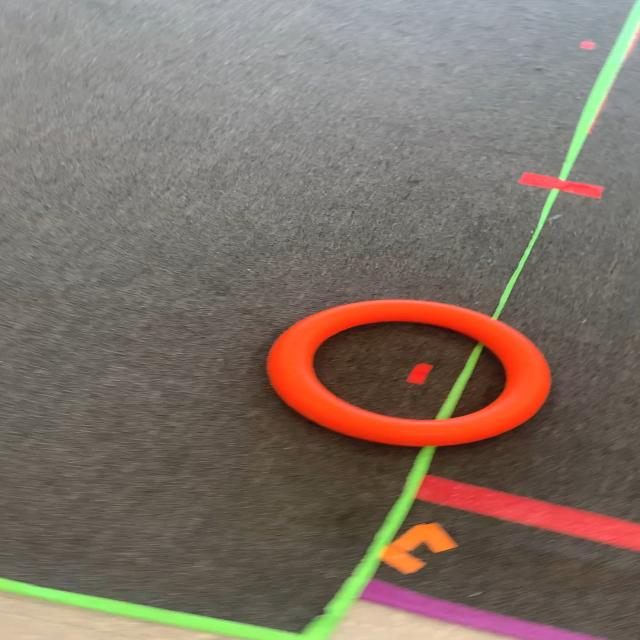notes: (261, 300, 552, 446)
